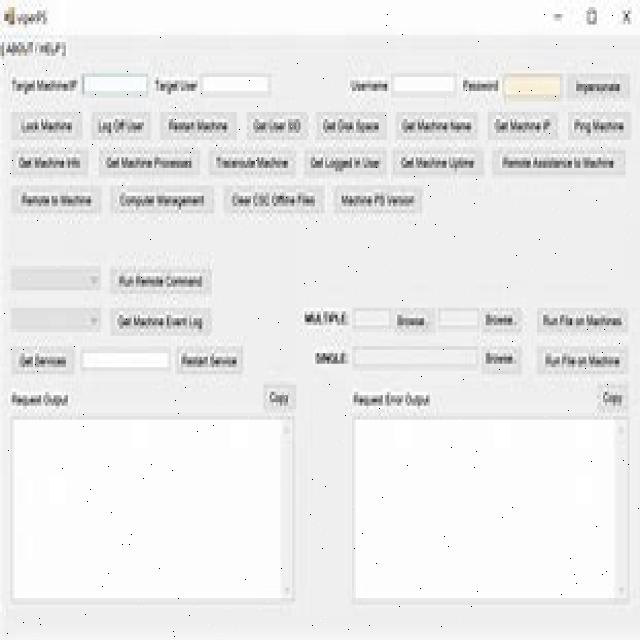button: (492, 148, 626, 176), (108, 264, 213, 296), (110, 302, 212, 334), (97, 144, 199, 176), (110, 185, 215, 216), (11, 184, 100, 214), (534, 346, 629, 374), (223, 185, 324, 211), (334, 184, 421, 214), (391, 148, 484, 176), (209, 147, 296, 176), (11, 145, 89, 177), (536, 305, 628, 332), (397, 109, 478, 139), (305, 147, 387, 175), (160, 110, 236, 140), (12, 109, 82, 140), (177, 345, 244, 376), (315, 112, 387, 140), (12, 346, 76, 377), (246, 110, 309, 140), (92, 108, 151, 140), (568, 110, 632, 139), (487, 112, 558, 138), (566, 73, 630, 100), (480, 342, 522, 374), (482, 305, 523, 333), (262, 379, 297, 411), (392, 307, 434, 333), (596, 382, 628, 409)
dropdownMenu: (10, 302, 103, 334), (11, 264, 101, 291)
icon: (3, 6, 14, 25)
input: (11, 414, 279, 606), (350, 414, 613, 602), (351, 345, 479, 369), (81, 346, 171, 374), (199, 68, 273, 98), (80, 70, 150, 98), (501, 72, 563, 102), (392, 70, 458, 97), (438, 305, 481, 330), (352, 306, 391, 329)
label: (348, 388, 435, 411), (10, 73, 78, 96), (8, 387, 72, 409), (0, 38, 68, 56), (302, 305, 347, 330), (152, 73, 200, 96), (348, 74, 390, 96), (313, 345, 347, 367), (16, 8, 49, 28), (461, 77, 499, 94)
slider: (612, 414, 630, 602), (278, 414, 295, 604)
